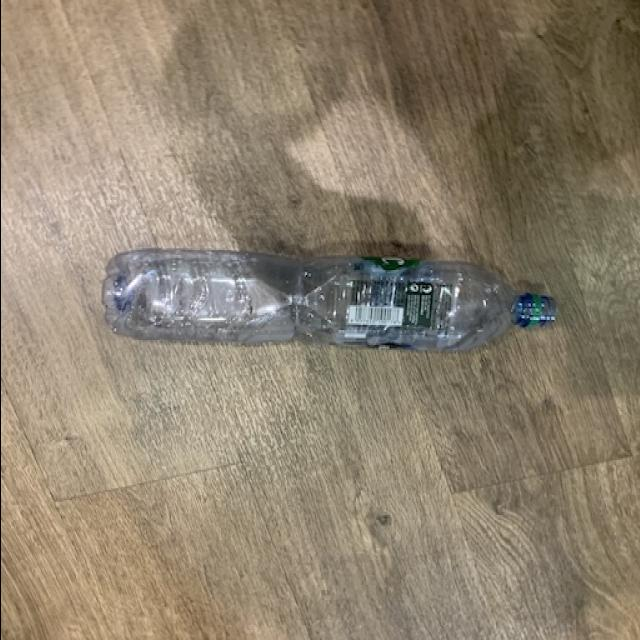PET: (94, 245, 560, 355)
